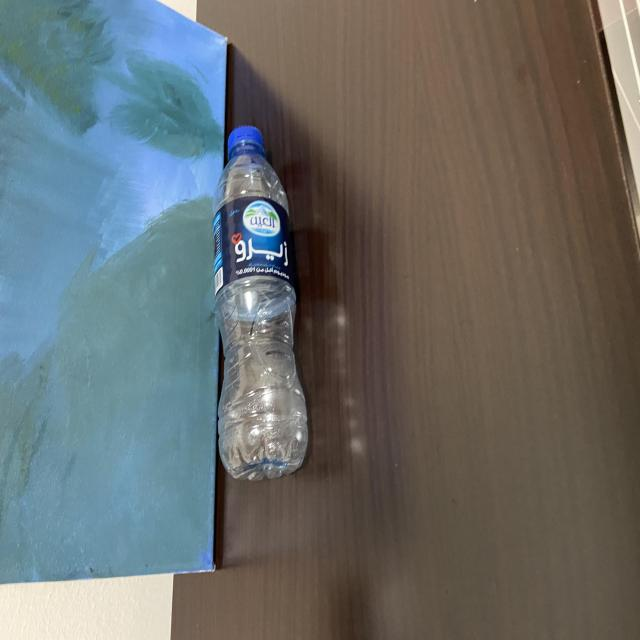bottle: (199, 120, 320, 497)
